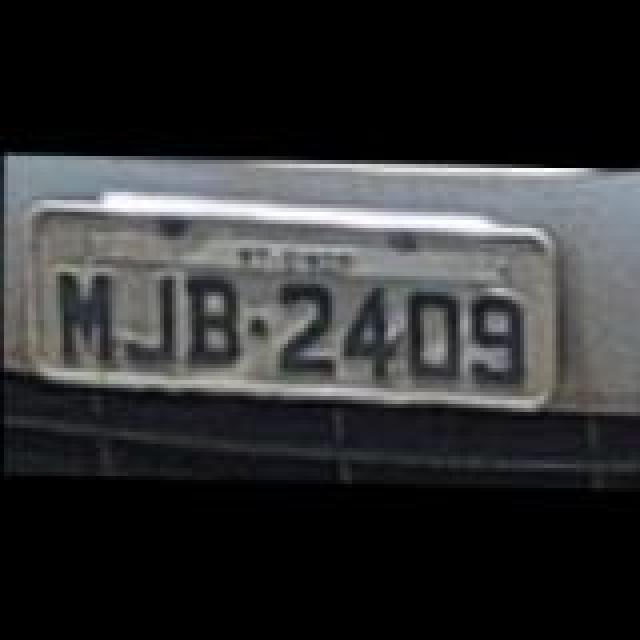2: (280, 282, 340, 378)
4: (346, 286, 402, 382)
9: (468, 294, 528, 390)
B: (188, 278, 240, 370)
D: (406, 288, 462, 384)
J: (122, 272, 178, 368)
M: (60, 272, 112, 368)
